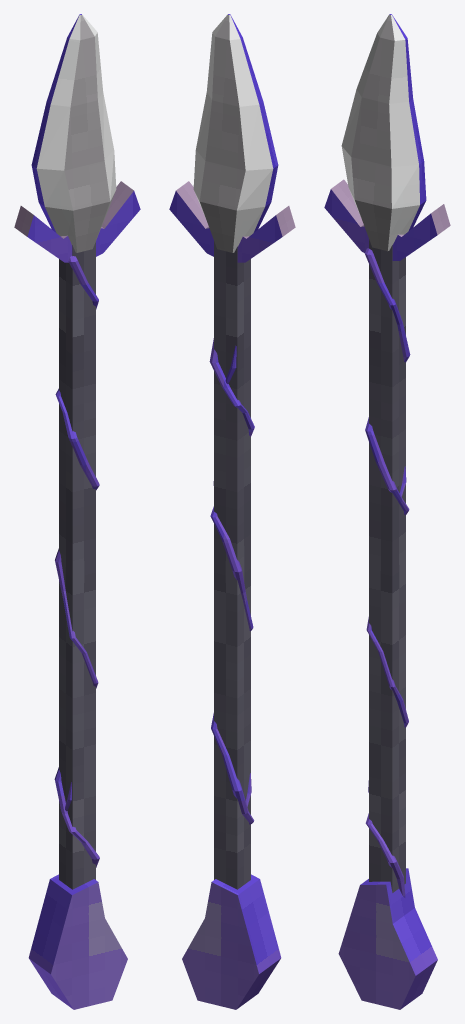
Rendered from cutout.obj.
3 views of the same model, side by side, from view 1: azimuth 30°, elevation 25°; view 2: azimuth 150°, elevation 25°; view 3: azimuth 330°, elevation 25° (orthographic).
Size of the model in its own units: 0.4312 by 3.57 by 0.1875.
